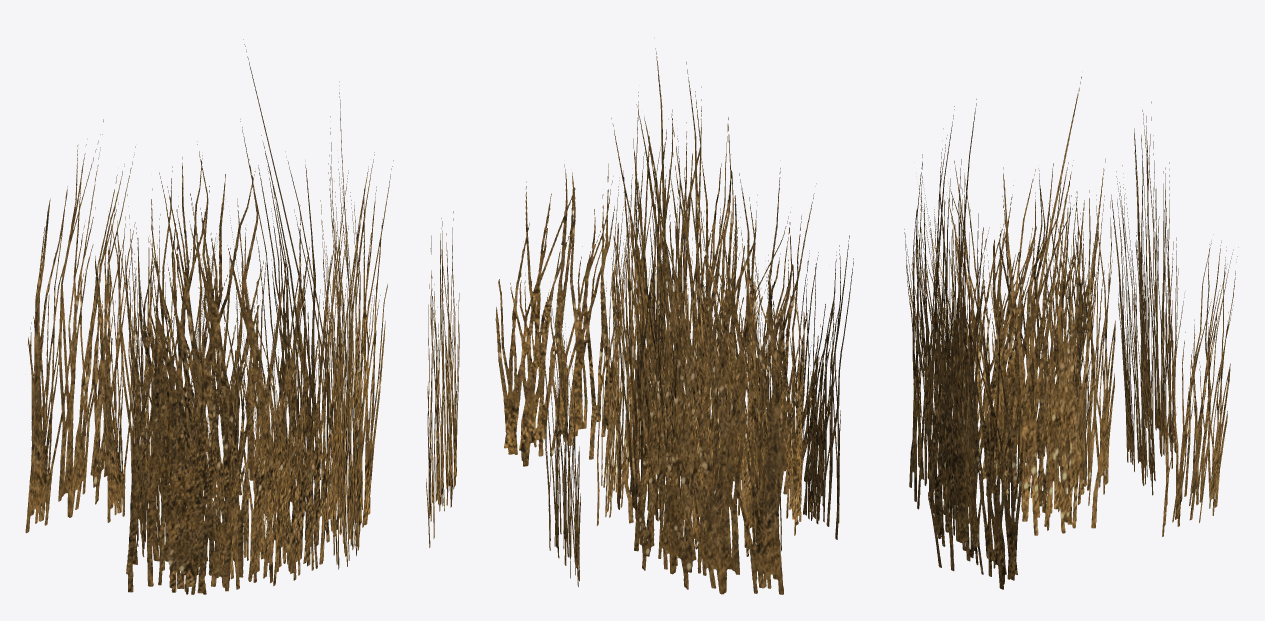
The model's file is grass_3d_04_golden_beige.glb.
3 views of the same model, side by side, from view 1: azimuth 30°, elevation 25°; view 2: azimuth 150°, elevation 25°; view 3: azimuth 270°, elevation 25° (orthographic). The views are drawn at different scales.
Visible parts, largest first — view 1: grass_cards; view 2: grass_cards; view 3: grass_cards.
Part boxes in pixels (x1,y1,x2,y2): grass_cards: (25, 39, 459, 594); grass_cards: (495, 48, 853, 594); grass_cards: (904, 76, 1238, 589).
Bounding box in the file's own units: 0.6428 × 0.7966 × 0.546.
1 material, 1 textured.
